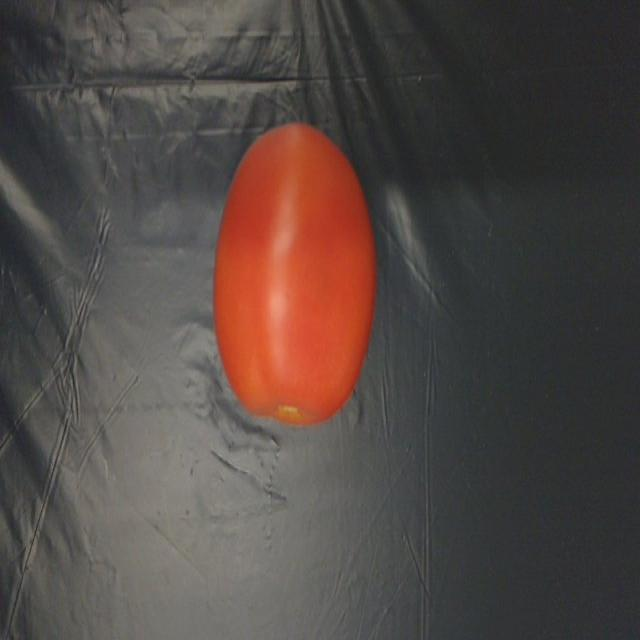kirmizi: (210, 101, 366, 434)
